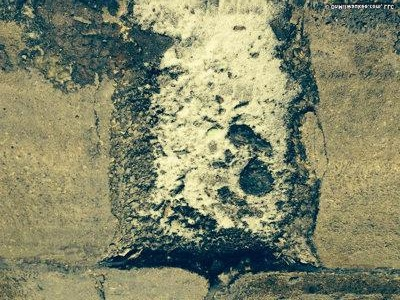pothole: (89, 0, 329, 284)
